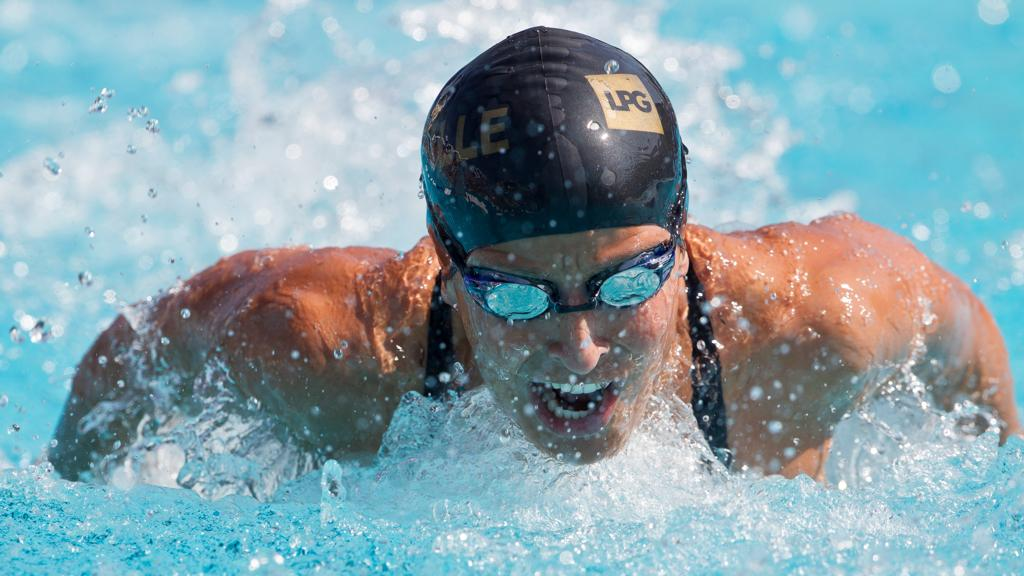face: (470, 212, 670, 460)
